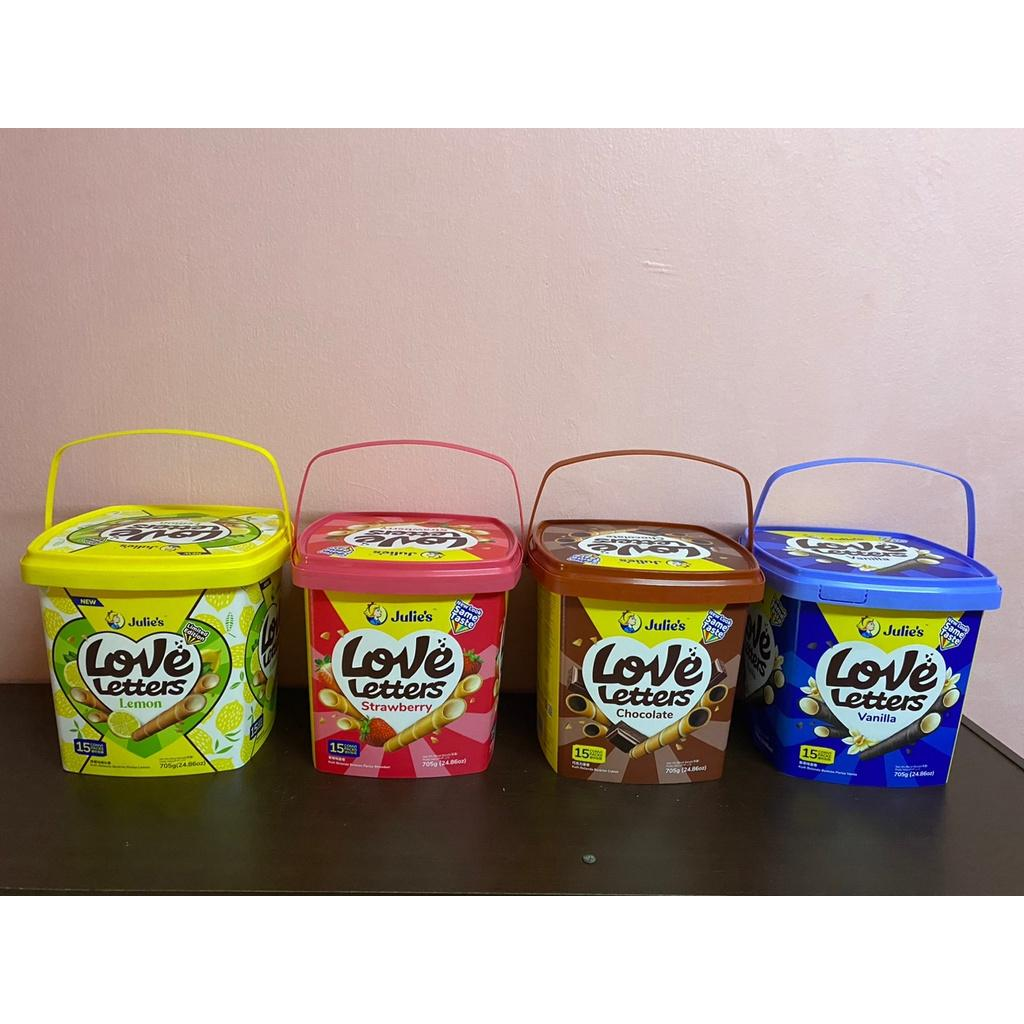plastic: (27, 428, 291, 782), (758, 457, 997, 800), (525, 452, 756, 786), (293, 443, 519, 778)
